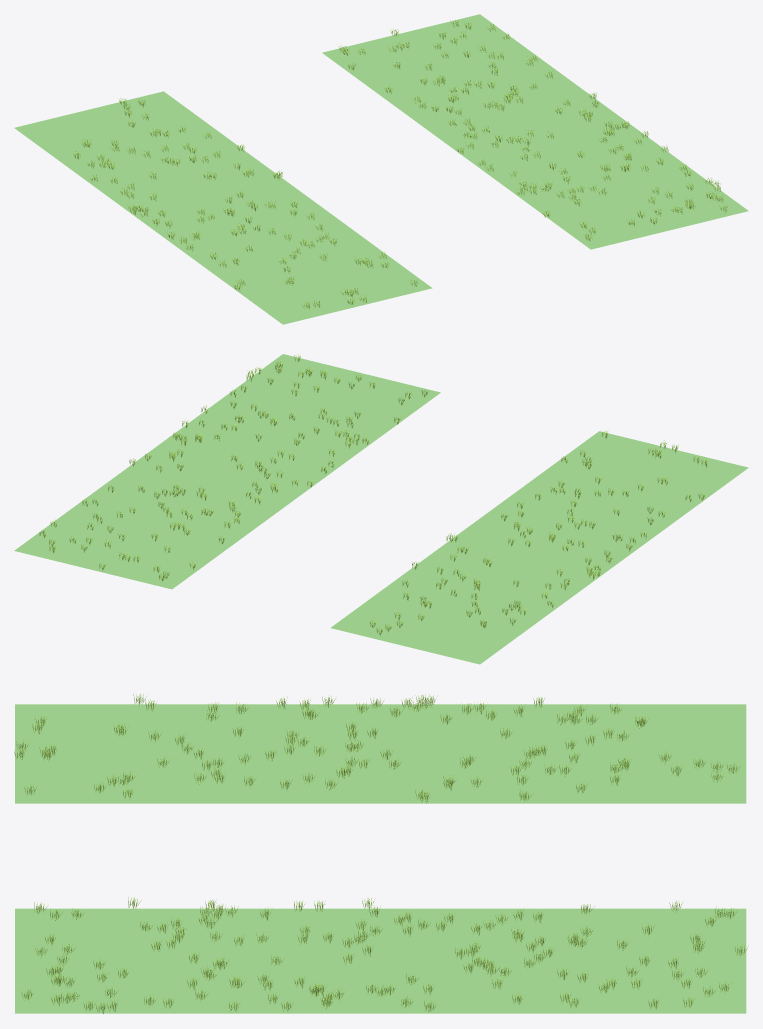
File: grass parallell sollid.fbx
The picture shows the model from 3 angles, top to bottom: view 1: azimuth 30°, elevation 25°; view 2: azimuth 150°, elevation 25°; view 3: azimuth 270°, elevation 25°; orthographic projection. The views are drawn at different scales.
Visible parts, largest first — view 1: Plane; view 2: Plane; view 3: Plane.
Part boxes in pixels (box(x1,y1,x2,y2)): Plane: box(14, 14, 748, 324); Plane: box(14, 354, 748, 664); Plane: box(14, 693, 748, 1013).
Bounding box in the file's own units: 6005 × 108 × 5975.
